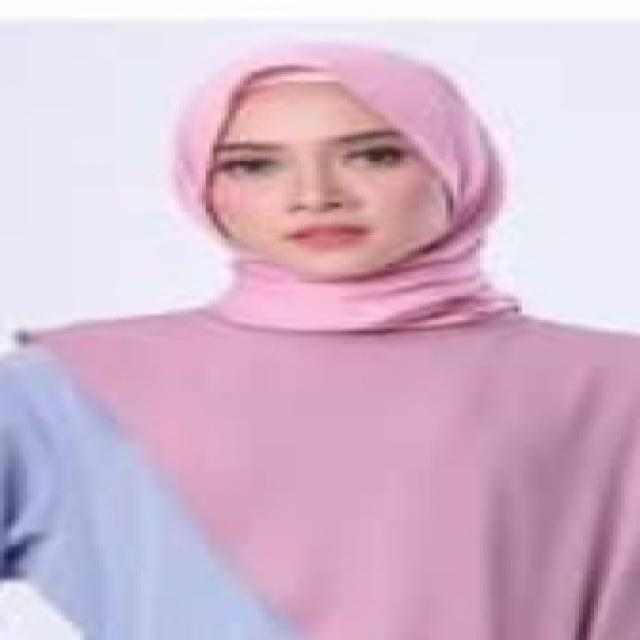head: (166, 40, 510, 288)
